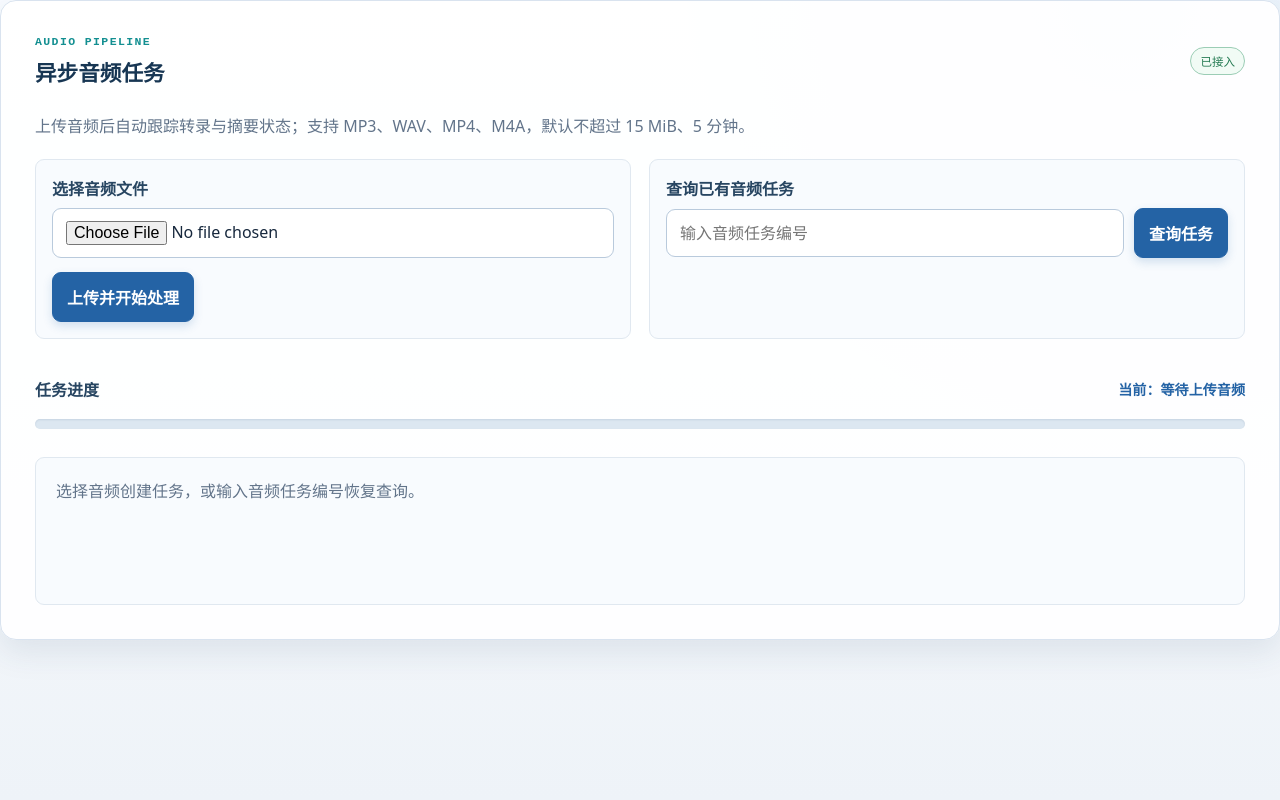
Test: AudioJobPanel › restores a job by UUID and rejects invalid IDs locally
Step 1. Type "not-a-uuid" into the field labelled "查询已有音频任务" → (895, 233), box x1=666 y1=209 x2=1124 y2=257
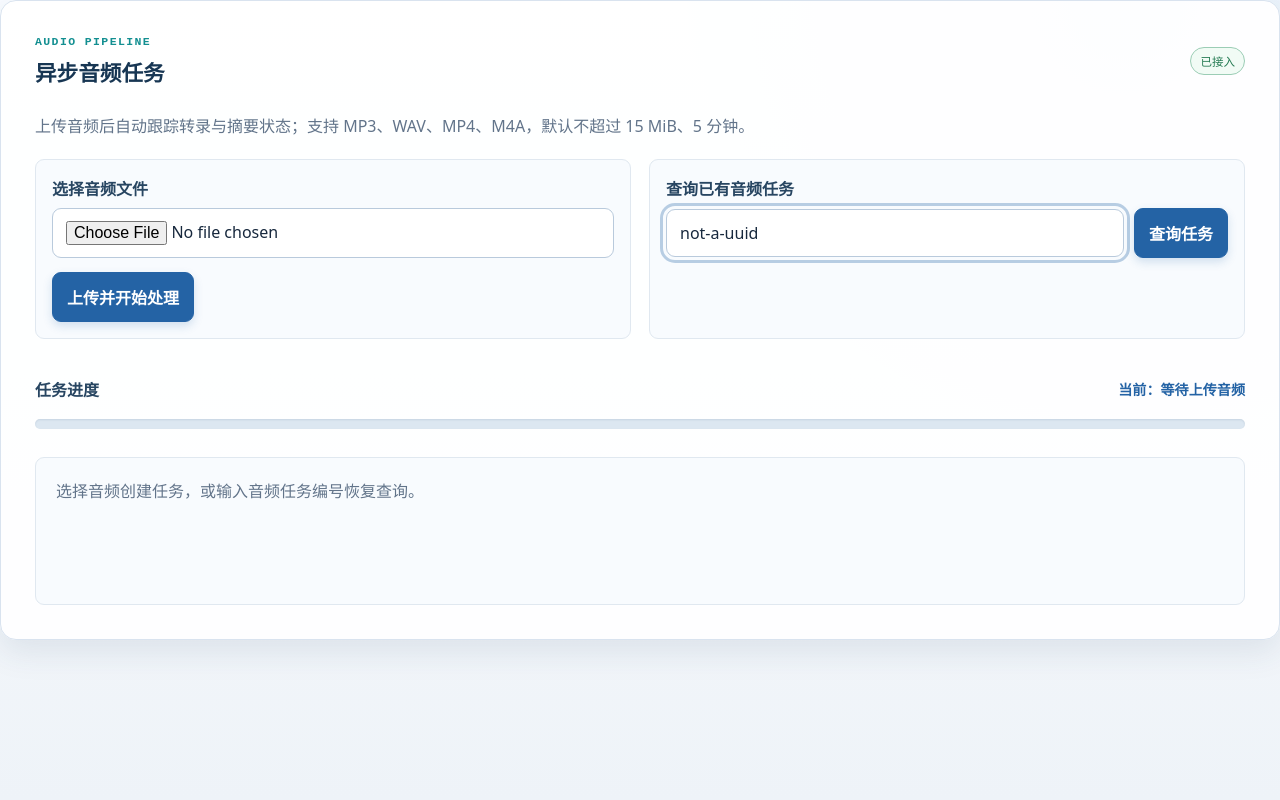
Step 2. Click the button "查询任务" → (1181, 233), box x1=1134 y1=208 x2=1228 y2=258
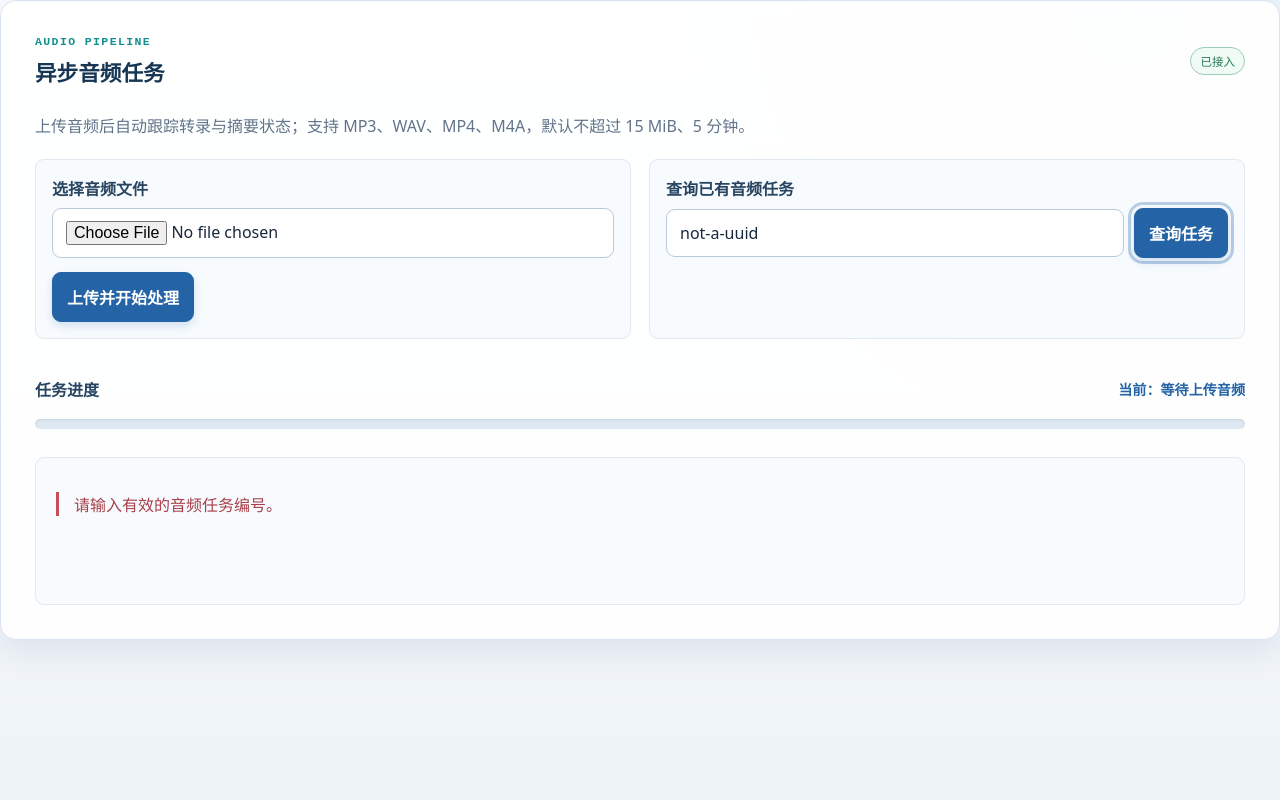
Result: the message reads "请输入有效的音频任务编号。" at x1=74 y1=494 x2=282 y2=516
Step 3. Replace the text in the field labelled "查询已有音频任务" with "123e4567-e89b-42d3-a456-426614174000" → (895, 233), box x1=666 y1=209 x2=1124 y2=257
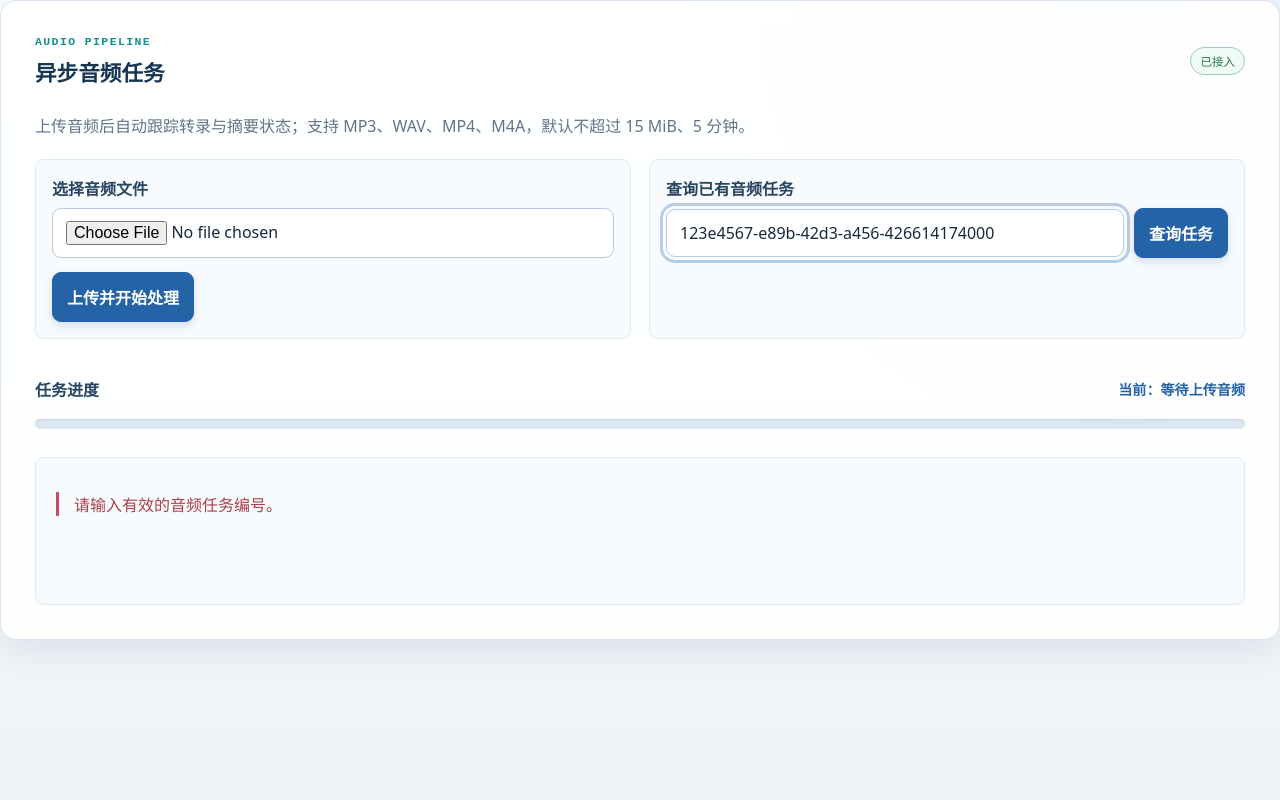
Step 4. Click the button "查询任务" → (1181, 233), box x1=1134 y1=208 x2=1228 y2=258
(page scrolled)
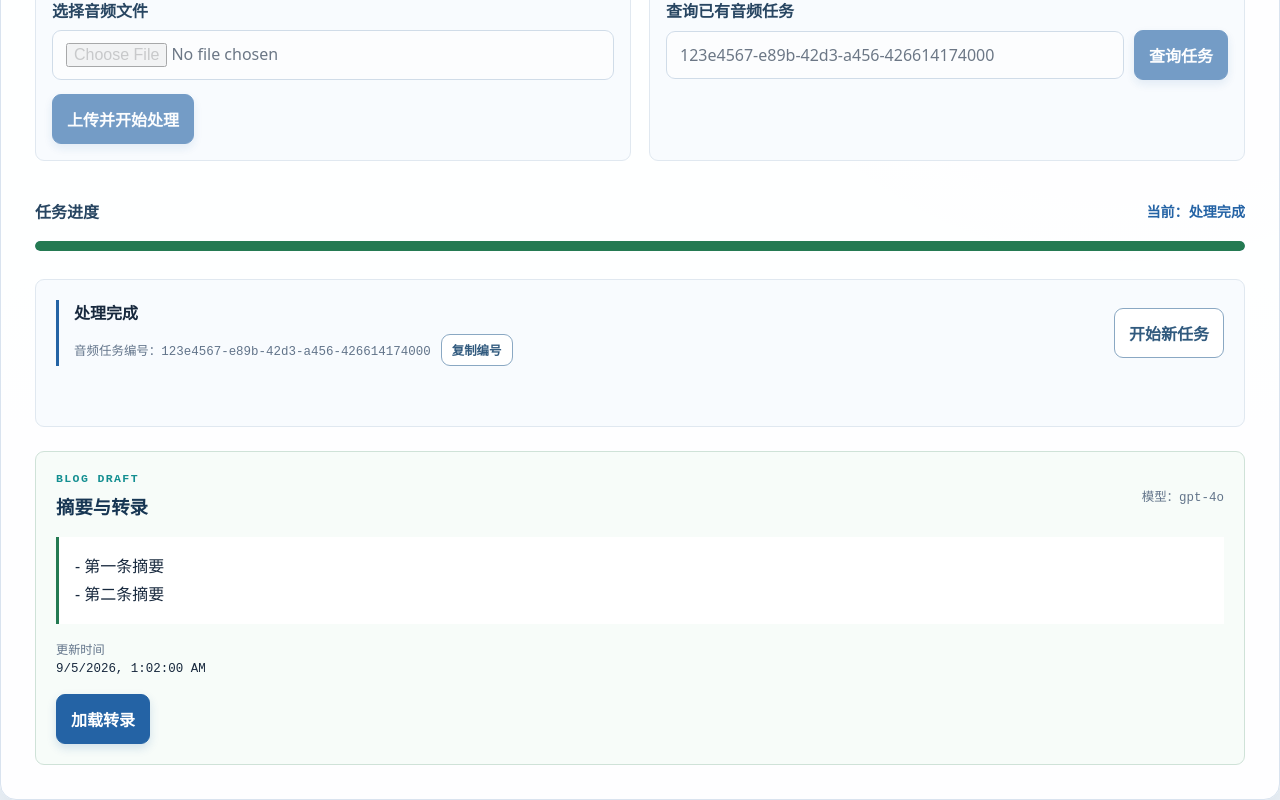
Result: the text "- 第一条摘要 - 第二条摘要" is shown at x1=56 y1=537 x2=1224 y2=624
